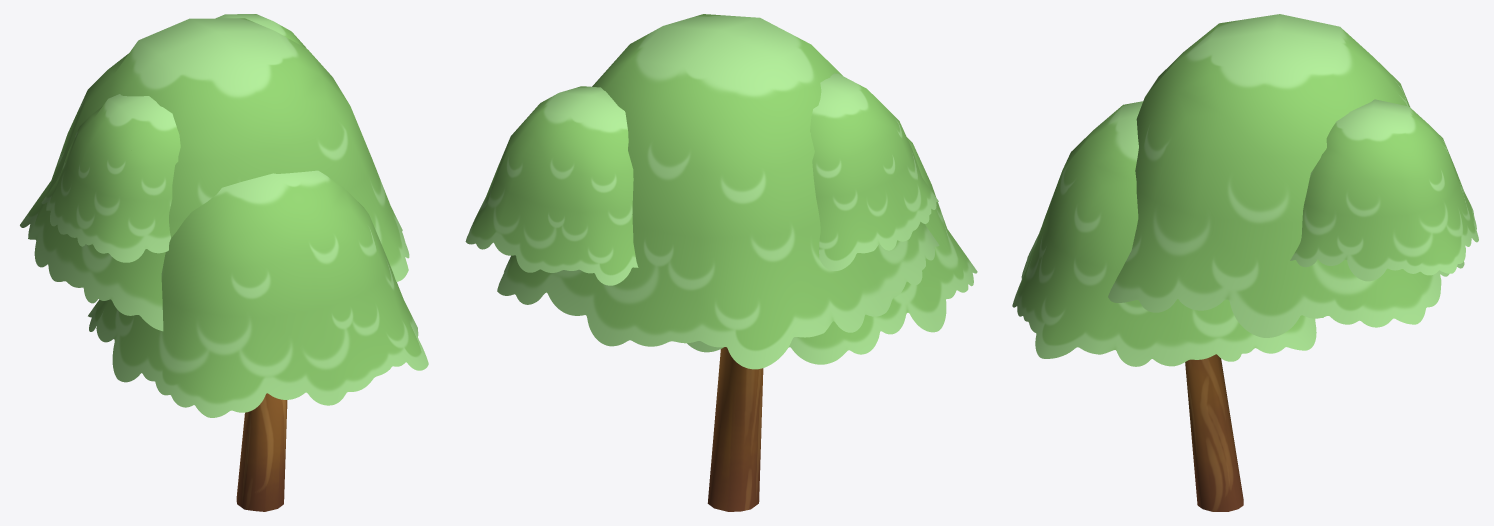
The model's file is arvore 2.fbx.
3 renders of one model, left to right at view 1: azimuth 30°, elevation 25°; view 2: azimuth 150°, elevation 25°; view 3: azimuth 270°, elevation 25°, orthographic. The views are drawn at different scales.
Visible parts, largest first — view 1: copa arvore.001, copa arvore.002, copa arvore.004, tronco 1.003, copa arvore.003; view 2: copa arvore.002, copa arvore.003, copa arvore.004, copa arvore.001, tronco 1.003; view 3: copa arvore.002, copa arvore.001, copa arvore.003, tronco 1.003.
Boxes of the visible parts, x1,y1,x2,y2 form: copa arvore.001: (88,170,428,417); copa arvore.002: (20,18,409,331); copa arvore.004: (41,94,180,262); tronco 1.003: (236,393,287,511); copa arvore.003: (216,14,306,48); copa arvore.002: (497,14,939,369); copa arvore.003: (465,86,638,285); copa arvore.004: (810,73,938,270); copa arvore.001: (687,137,977,364); tronco 1.003: (707,347,763,511); copa arvore.002: (1108,14,1464,337); copa arvore.001: (1012,101,1323,366); copa arvore.003: (1290,99,1478,281); tronco 1.003: (1185,354,1243,511).
Size of the model in its own units: 876 by 1157 by 1059.
2 materials, 2 textured.
